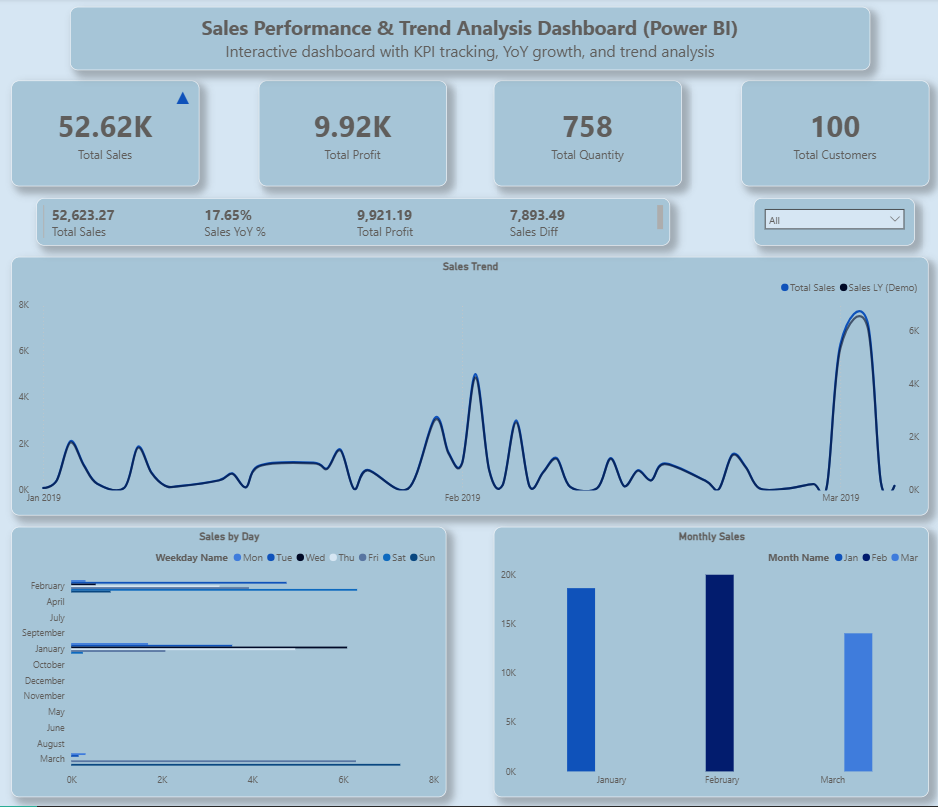

What the dashboard file says about the page in this screenshot:
{"tool":"powerbi","page":{"name":"Page 1","canvas":[1280,1100],"ordinal":0},"visuals":[{"type":"card","title":"Average Sales ","fields":{"Values":["Sheet1.Total Sales"]},"box":[16,112,256,144],"z":0},{"type":"card","title":"Average Customers ","fields":{"Values":["Sheet1.Total Customers"]},"box":[1008,112,256,144],"z":1000},{"type":"card","title":"Average Profit","fields":{"Values":["Sheet1.Total Profit"]},"box":[352,112,256,144],"z":2000},{"type":"card","title":"Average Quantity ","fields":{"Values":["Sheet1.Total Quantity"]},"box":[672,112,256,144],"z":3000},{"type":"lineChart","title":"Sales Trend","fields":{"Category":["DateTable.Date.Variation.Date Hierarchy.Year","DateTable.Date.Variation.Date Hierarchy.Quarter","DateTable.Date.Variation.Date Hierarchy.Month","DateTable.Date.Variation.Date Hierarchy.Day"],"Y":["Sheet1.Total Sales"],"Y2":["Sheet1.Sales LY (Demo)"]},"box":[16,352,1248,352],"z":4000},{"type":"clusteredColumnChart","title":"Monthly Sales ","fields":{"Category":["DateTable.Date.Variation.Date Hierarchy.Month"],"Y":["Sheet1.Total Sales"],"Series":["DateTable.Month Name"]},"box":[672,720,592,368],"z":5000},{"type":"clusteredBarChart","title":"Sales by Day","fields":{"Series":["DateTable.Weekday Name"],"Y":["Sheet1.Total Sales"],"Category":["DateTable.Date.Variation.Date Hierarchy.Month","DateTable.Date.Variation.Date Hierarchy.Day"]},"box":[16,720,592,368],"z":6000},{"type":"slicer","title":"Year","fields":{"Values":["DateTable.Date.Variation.Date Hierarchy.Month"]},"box":[1025.5,272.1,219.4,64.6],"z":8000},{"type":"multiRowCard","fields":{"Values":["Sheet1.Total Sales","Sheet1.Sales YoY %","Sheet1.Total Profit","Sheet1.Sales Diff"]},"box":[49.3,272.1,862.2,64.6],"z":9000},{"type":"card","fields":{"Values":["Sheet1.Sales Arrow"]},"box":[224,112,48,48],"z":10000},{"type":"textbox","box":[95.2,11.9,1088.4,86.7],"z":11000}]}

Visuals, with their boxes in screenshot pixels (x1, y1, x2, y2), scaled from the page's 1280x1100 canvas onto the 938x807 screenshot:
"Average Sales " card: x1=12, y1=82, x2=199, y2=188
"Average Customers " card: x1=739, y1=82, x2=926, y2=188
"Average Profit" card: x1=258, y1=82, x2=446, y2=188
"Average Quantity " card: x1=492, y1=82, x2=680, y2=188
"Sales Trend" lineChart: x1=12, y1=258, x2=926, y2=516
"Monthly Sales " clusteredColumnChart: x1=492, y1=528, x2=926, y2=798
"Sales by Day" clusteredBarChart: x1=12, y1=528, x2=446, y2=798
"Year" slicer: x1=751, y1=200, x2=912, y2=247
multiRowCard - Sheet1.Total Sales x Sheet1.Sales YoY %: x1=36, y1=200, x2=668, y2=247
card - Sheet1.Sales Arrow: x1=164, y1=82, x2=199, y2=117
textbox: x1=70, y1=9, x2=867, y2=72
